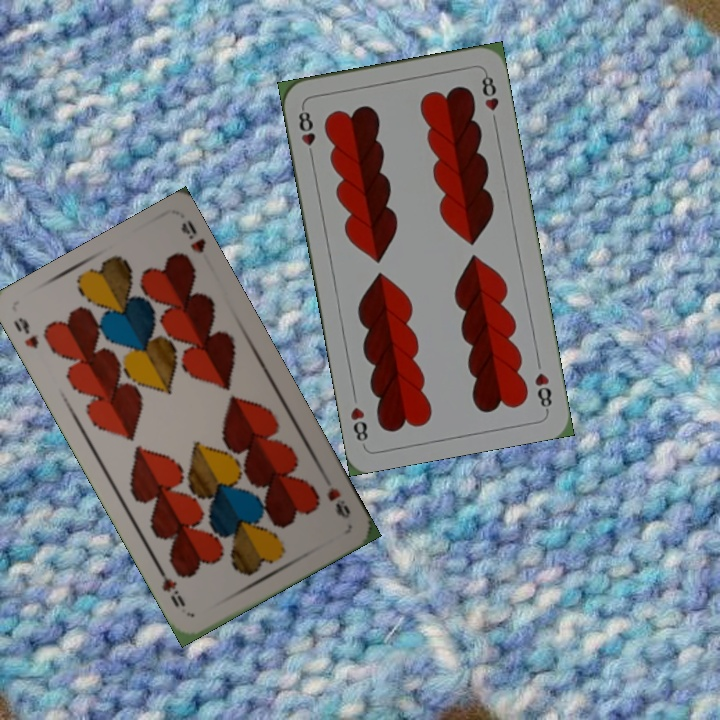H8: (294, 103, 318, 162), (530, 368, 555, 414)
H9: (9, 313, 41, 352), (323, 483, 354, 521)
